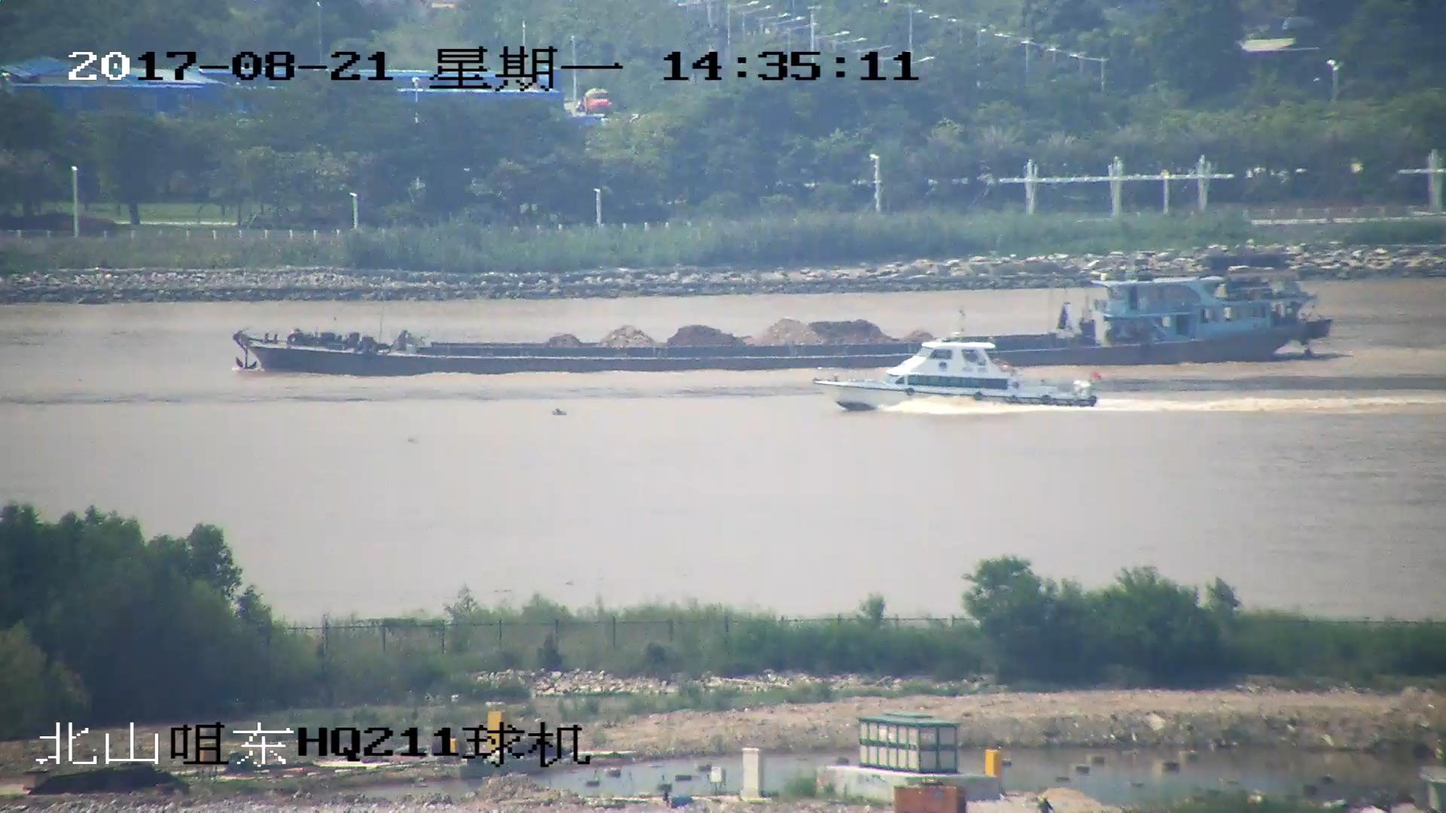ore carrier: (230, 259, 1329, 371)
passenger ship: (813, 341, 1097, 413)
